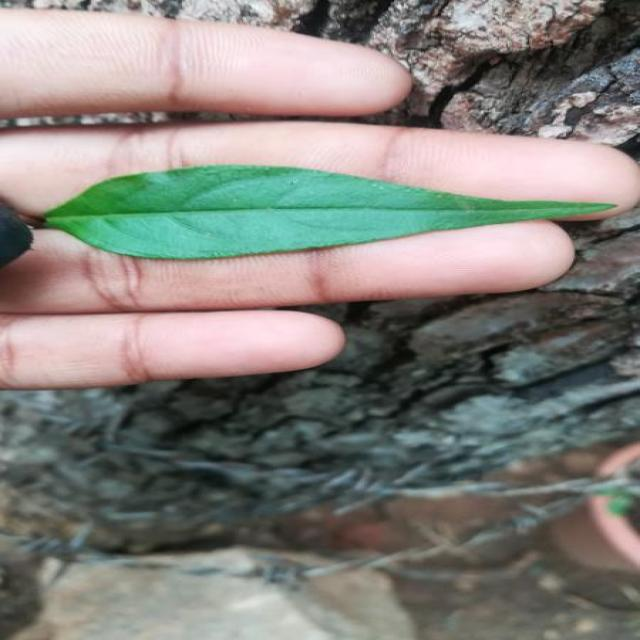Nelavembu: (45, 165, 615, 259)
